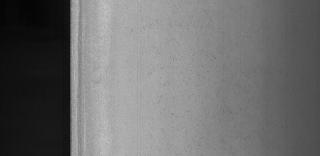silk spot: (140, 20, 222, 128)
